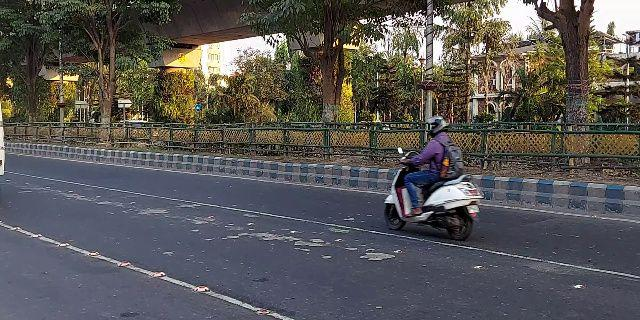Motorbike: (378, 114, 485, 249)
